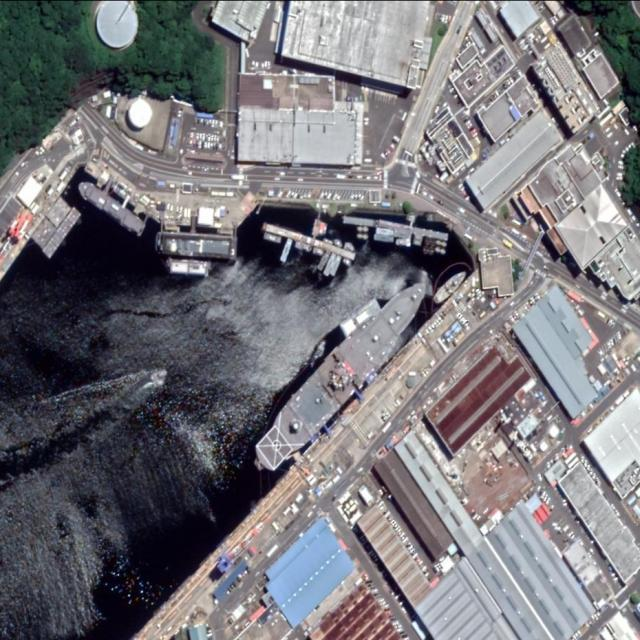Commander: (239, 270, 441, 480)
Other Warship: (75, 176, 145, 235), (430, 266, 469, 306)
